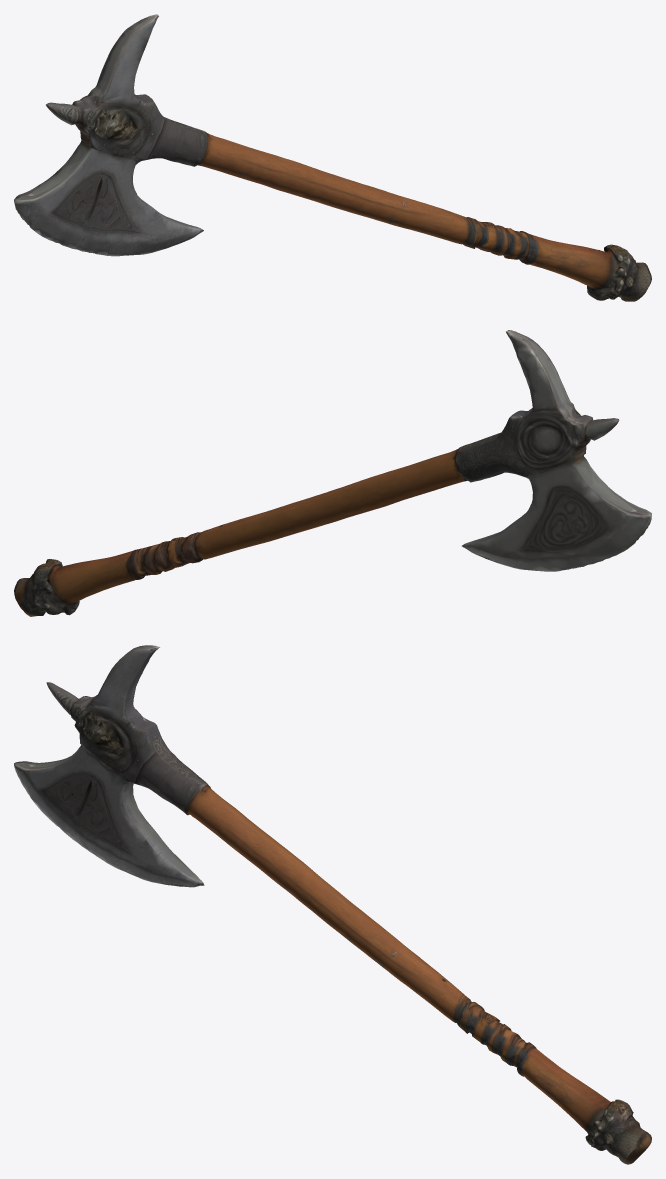
File: Meshy_AI_Machado_de_orc_1007163121_texture.fbx
3 views of the same model, one above another, from view 1: azimuth 30°, elevation 25°; view 2: azimuth 150°, elevation 25°; view 3: azimuth 330°, elevation 25° (orthographic).
Visible parts, largest first — view 1: Mesh_0; view 2: Mesh_0; view 3: Mesh_0.
Part boxes in pixels (box(x1,y1,x2,y2)): Mesh_0: box(14, 14, 651, 301); Mesh_0: box(14, 330, 651, 616); Mesh_0: box(14, 645, 651, 1164).
Size of the model in its own units: 200 by 121 by 14.75.
1 material, 1 textured.
